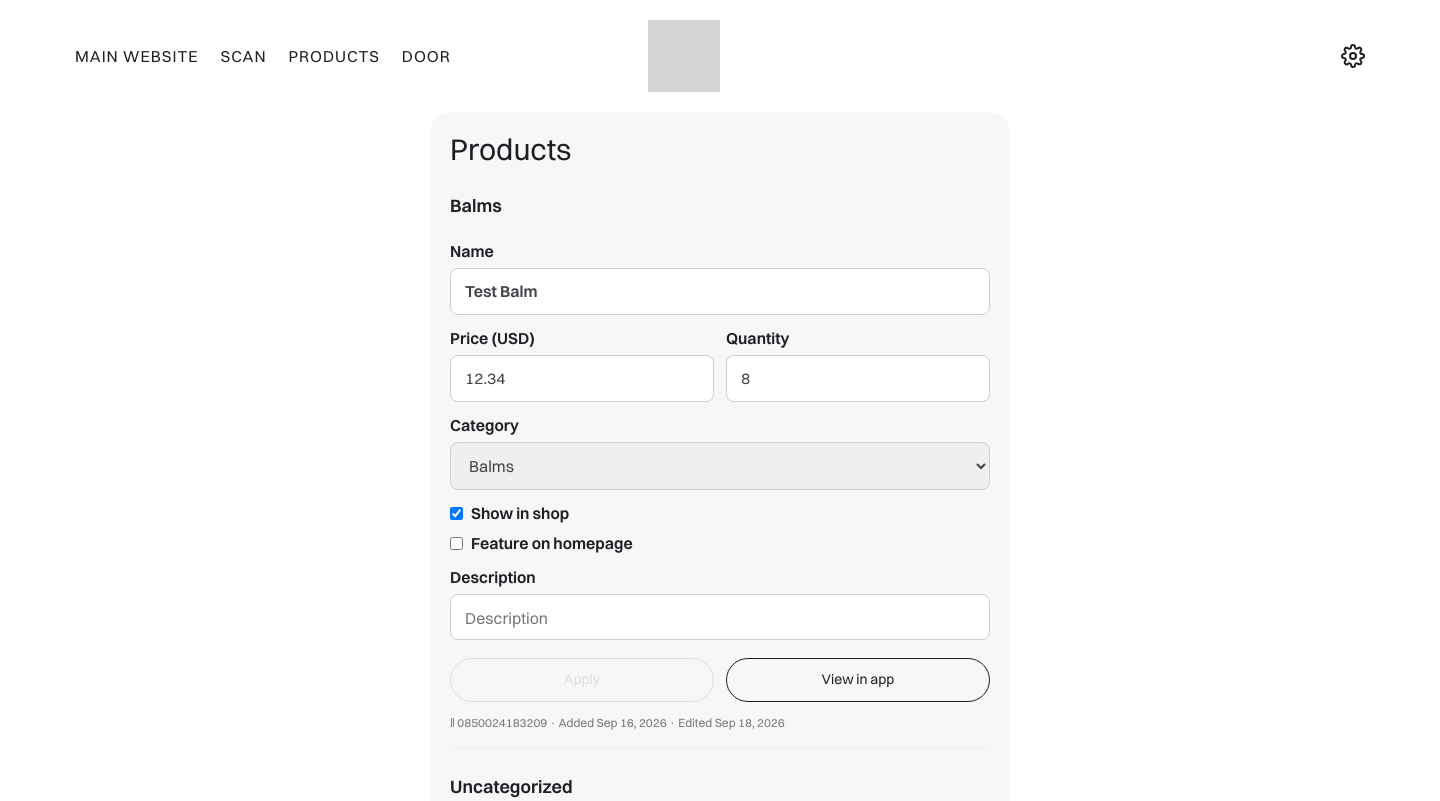
Scenario: products management page (#31 re-layout) › surfaces the in-cart protection message from the server
Replace the text in the field labelled "Quantity" with "0" at (858, 378), box [726,355,990,402]
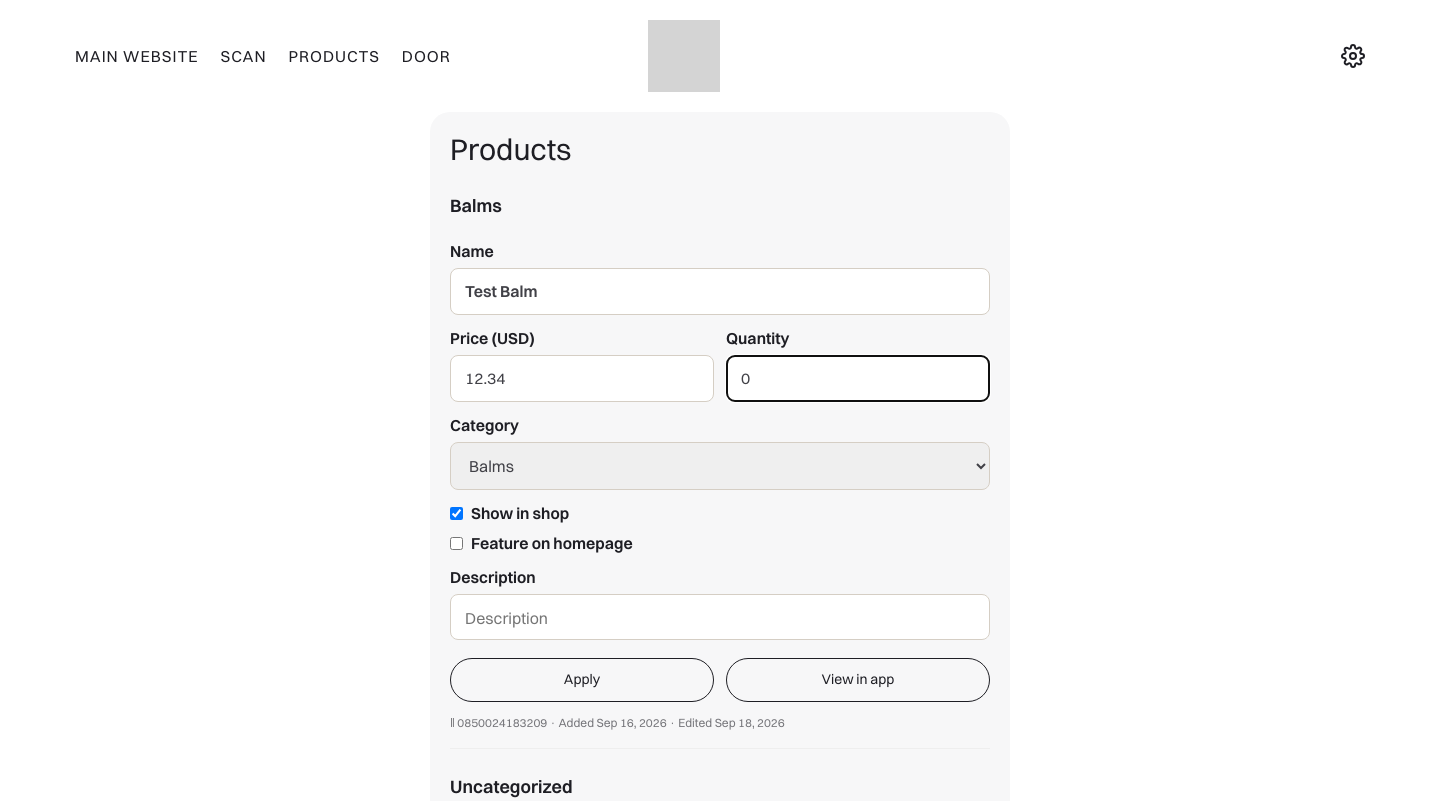
Click the button "Apply" at (582, 680), box [450,658,714,702]
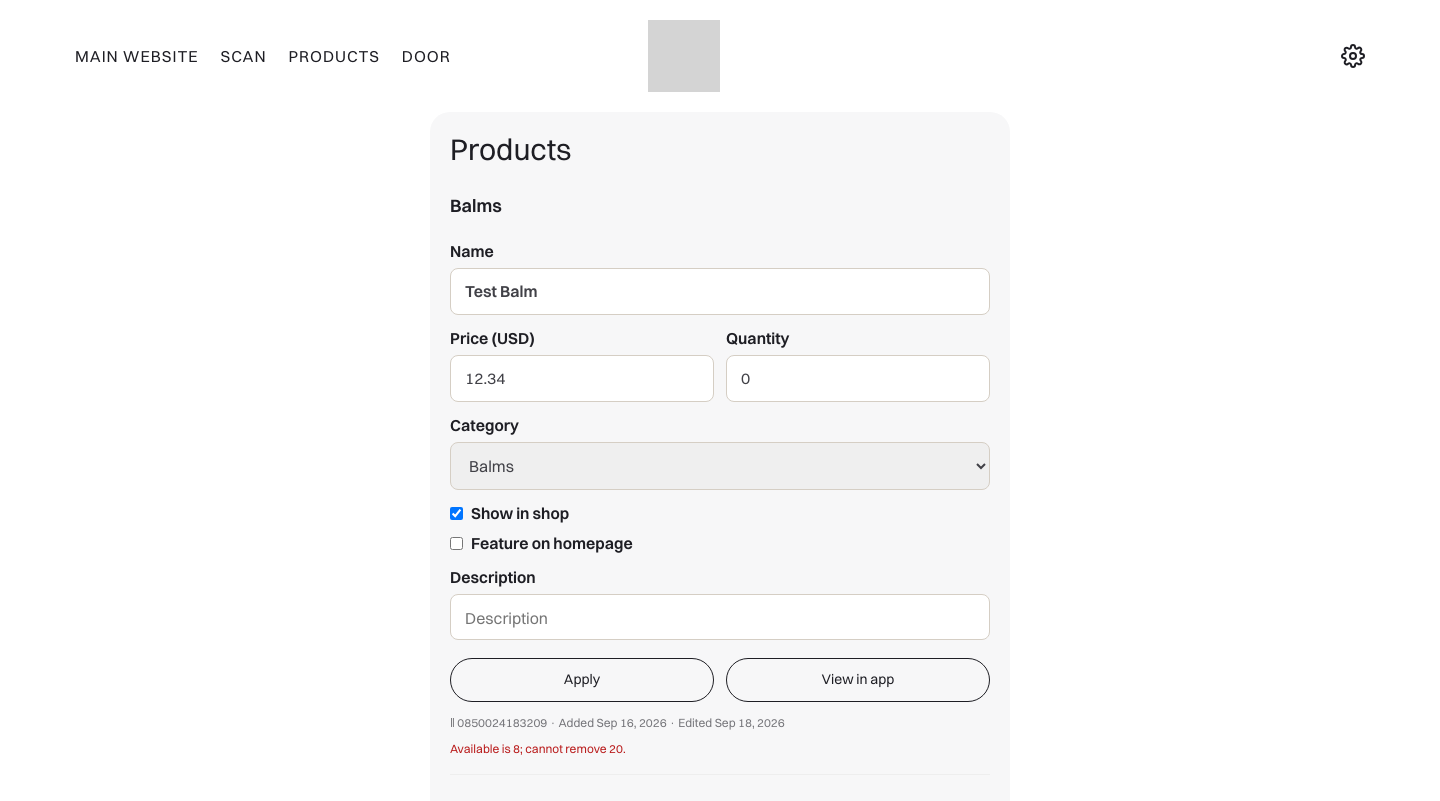
Result: the message reads "Available is 8; cannot remove 20." at [450,740,626,756]
